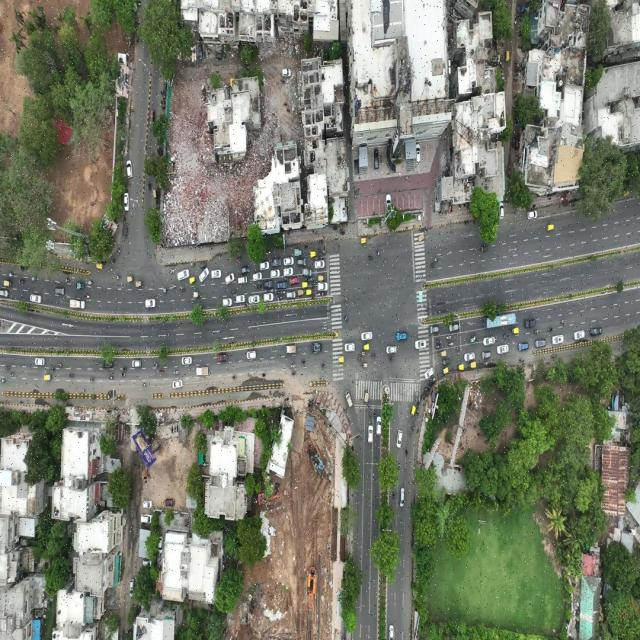3W: (94, 262, 103, 272), (43, 373, 52, 383), (410, 404, 416, 419), (338, 353, 345, 365), (510, 328, 519, 337), (75, 282, 84, 291), (480, 245, 489, 254), (2, 279, 12, 287), (123, 225, 129, 238), (189, 275, 196, 286), (439, 350, 447, 359), (126, 275, 134, 284), (134, 280, 143, 288), (360, 236, 367, 246), (442, 358, 450, 366), (199, 261, 207, 269), (546, 224, 555, 231), (470, 360, 476, 370), (442, 365, 448, 375), (364, 391, 369, 403), (458, 363, 465, 371), (418, 234, 425, 242), (305, 289, 313, 296), (192, 292, 200, 299), (317, 274, 325, 281), (301, 281, 308, 288), (310, 251, 316, 258), (363, 343, 369, 350), (298, 290, 304, 296)
Bus: (483, 313, 516, 330)
Cars: (497, 201, 507, 220), (177, 268, 191, 281), (516, 341, 530, 354), (224, 271, 236, 285), (150, 108, 156, 133), (573, 329, 585, 341), (414, 339, 427, 350), (551, 334, 564, 345), (126, 159, 133, 179), (124, 192, 131, 212), (199, 268, 209, 282), (172, 378, 184, 389), (217, 352, 229, 363), (248, 293, 260, 304), (310, 341, 322, 352), (143, 298, 156, 308), (424, 366, 434, 379), (29, 294, 43, 303), (376, 416, 382, 437), (210, 269, 222, 279), (288, 276, 300, 286), (316, 282, 328, 292), (429, 325, 441, 335), (483, 337, 495, 347), (524, 318, 536, 328), (290, 274, 300, 286), (396, 431, 403, 448), (360, 332, 373, 341), (463, 352, 476, 361), (495, 345, 508, 354), (534, 338, 547, 347), (400, 487, 405, 510), (367, 425, 373, 444), (181, 356, 192, 366), (314, 259, 325, 269), (344, 343, 355, 353), (527, 209, 538, 219), (131, 359, 142, 369), (448, 323, 460, 332), (590, 327, 602, 336), (388, 623, 394, 640), (252, 271, 262, 281), (222, 297, 232, 307), (263, 293, 273, 303), (297, 257, 307, 267), (54, 287, 65, 296), (235, 294, 246, 303), (246, 351, 257, 360), (263, 280, 274, 289), (271, 258, 282, 267), (283, 257, 294, 266), (301, 269, 312, 278), (396, 332, 407, 341), (282, 268, 294, 276), (237, 276, 247, 285), (241, 265, 250, 275), (259, 262, 269, 271), (270, 269, 280, 278), (386, 346, 396, 355), (481, 351, 491, 360), (34, 358, 45, 366), (286, 291, 296, 299), (277, 281, 288, 288), (0, 289, 8, 298)
LCV: (196, 365, 209, 378), (345, 390, 353, 411), (284, 344, 298, 355), (69, 300, 86, 308)
M2W: (391, 489, 397, 500), (18, 279, 27, 286), (162, 286, 169, 295), (550, 351, 557, 360), (32, 274, 39, 282), (10, 371, 16, 380), (231, 288, 237, 297), (299, 359, 308, 365), (117, 247, 122, 257), (1, 375, 6, 385), (120, 371, 127, 378), (432, 255, 439, 262), (546, 327, 553, 334), (87, 280, 95, 286), (110, 257, 116, 265), (169, 268, 175, 276), (49, 366, 57, 372), (405, 445, 409, 456), (8, 272, 15, 278), (84, 294, 90, 301), (115, 274, 121, 281), (179, 285, 185, 292), (122, 365, 128, 372), (69, 372, 75, 379), (90, 377, 96, 384), (108, 375, 115, 381), (289, 363, 296, 369), (357, 356, 363, 363), (361, 362, 367, 369), (503, 333, 509, 340), (519, 358, 526, 364), (533, 329, 541, 334), (65, 278, 71, 284), (147, 182, 151, 191), (171, 283, 177, 289), (174, 370, 180, 376), (236, 257, 242, 263), (256, 285, 262, 291), (265, 250, 271, 256), (275, 289, 281, 295), (321, 363, 327, 369), (319, 376, 325, 382), (314, 292, 320, 298), (318, 239, 324, 245), (412, 422, 416, 431), (416, 409, 420, 418), (370, 353, 376, 359), (429, 262, 435, 268), (561, 318, 567, 324), (434, 345, 440, 351), (448, 342, 454, 348), (446, 334, 452, 340), (455, 345, 461, 351), (56, 362, 63, 367), (5, 365, 10, 372), (232, 374, 237, 381), (398, 459, 401, 470), (373, 408, 376, 419), (367, 400, 371, 408), (159, 369, 165, 374), (142, 382, 147, 388), (281, 290, 287, 295), (278, 295, 283, 301), (283, 275, 288, 281), (368, 255, 374, 260), (376, 251, 381, 257), (344, 316, 349, 322), (389, 355, 394, 361), (437, 339, 443, 344), (417, 399, 420, 408), (190, 262, 195, 267), (304, 254, 310, 258), (124, 216, 127, 223), (369, 409, 372, 416), (155, 363, 160, 367), (257, 281, 262, 285), (270, 289, 275, 293), (320, 256, 325, 260), (315, 256, 320, 260), (310, 277, 315, 281), (321, 292, 326, 296), (262, 373, 266, 377), (361, 352, 365, 356)
